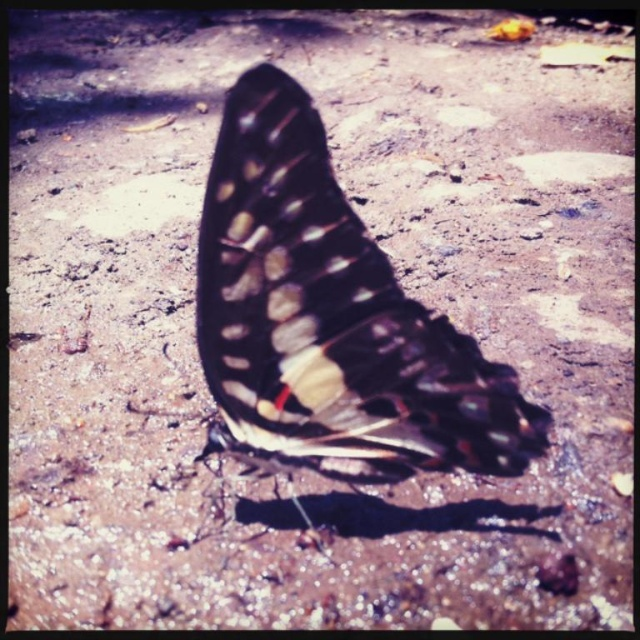Butterfly: (189, 43, 550, 520)
